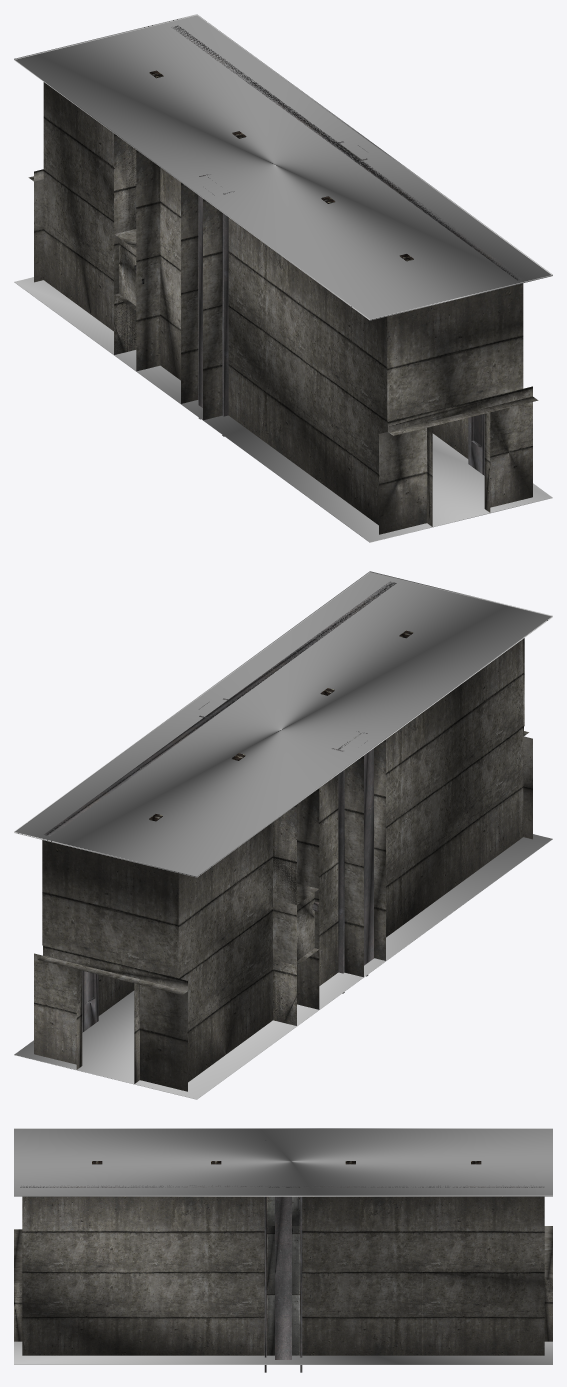
File: room2tesla_hcz_opt.obj
3 renders of one model, top to bottom at view 1: azimuth 30°, elevation 25°; view 2: azimuth 150°, elevation 25°; view 3: azimuth 270°, elevation 25°, orthographic. The views are drawn at different scales.
Bounding box in the file's own units: 30.4 × 38.6 × 102.
